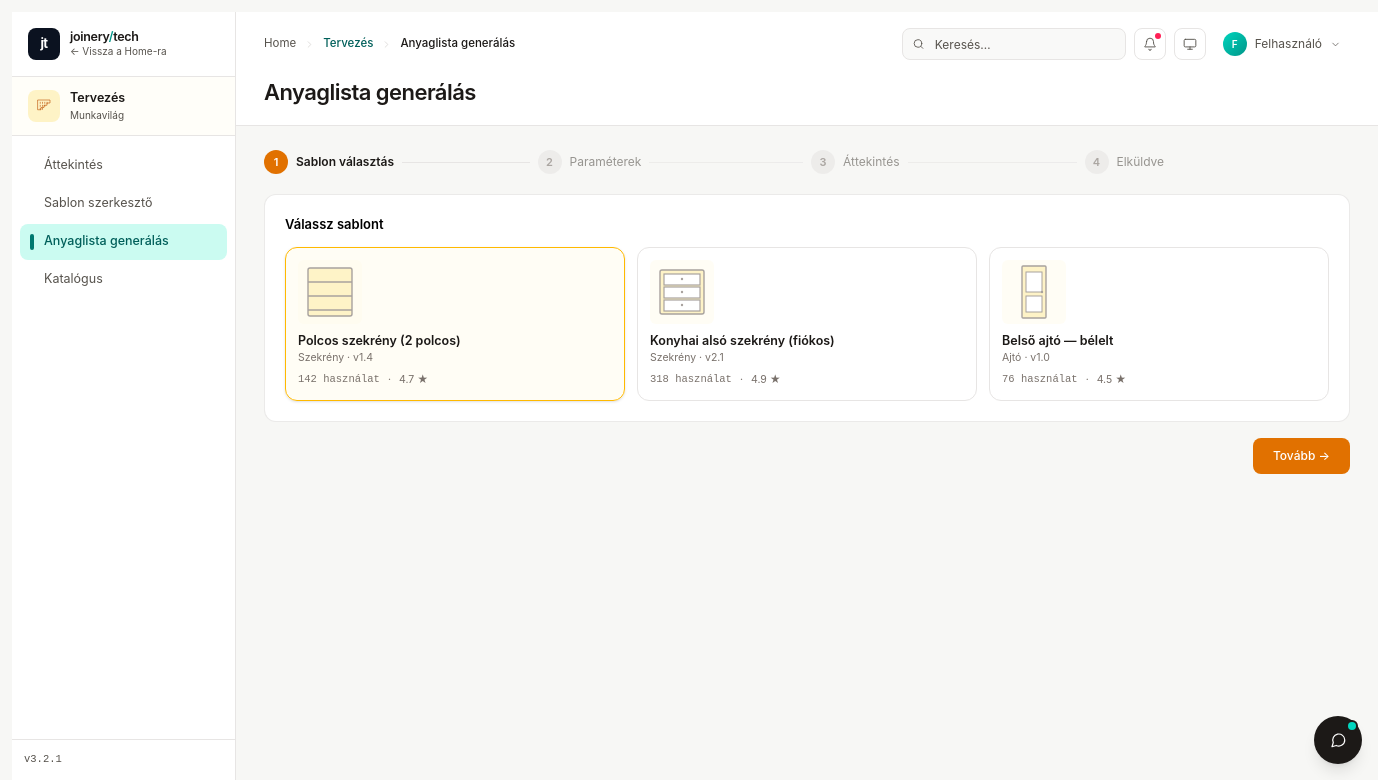
Test: DesignPage › shows order assignment card in step 1
The width and height of the screenshot is (1378, 780).
Click the button "Tovább →".
click(1302, 456)  # box x1=1253 y1=438 x2=1350 y2=474
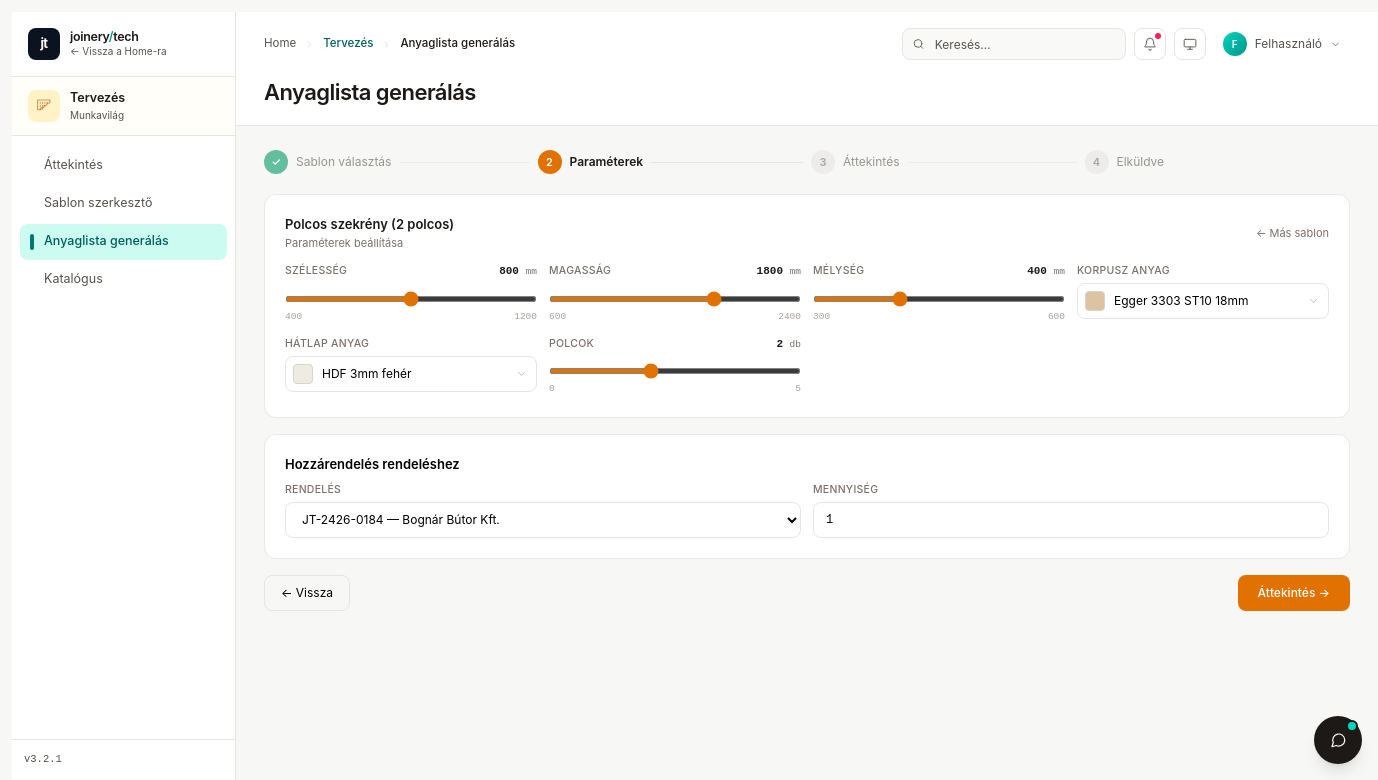
Expected: the text "Hozzárendelés rendeléshez" is shown, x1=285 y1=456 x2=460 y2=472
